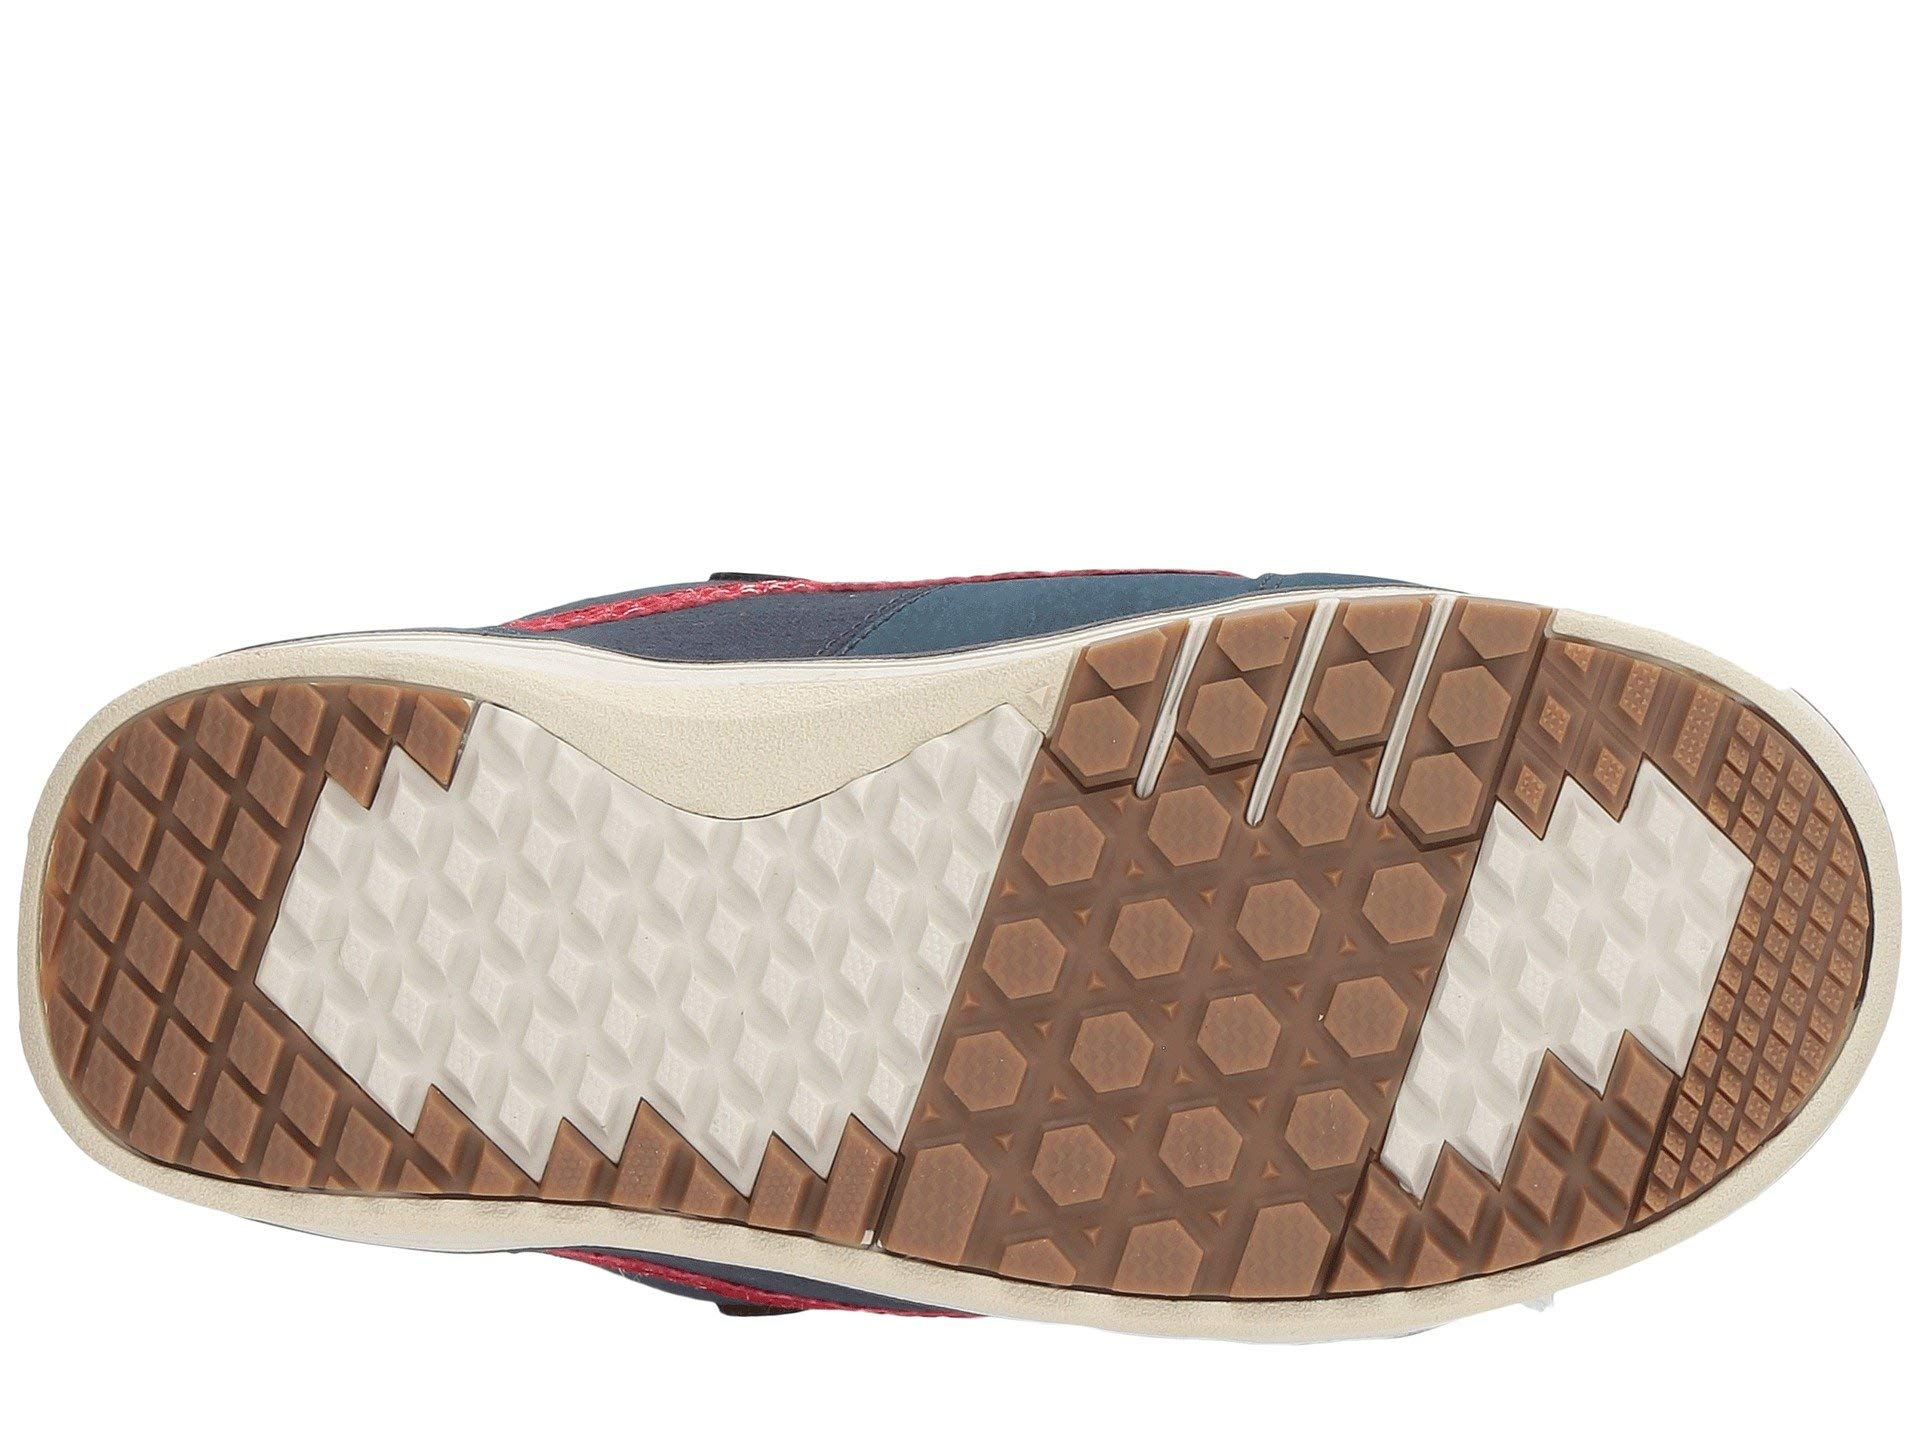line: (928, 749, 1342, 1258)
polygon: (928, 749, 1342, 1258), (1300, 652, 1411, 750)
quad: (396, 817, 723, 1212), (1465, 731, 1748, 1162), (82, 767, 367, 1110)
star: (928, 749, 1342, 1258)
triangle: (928, 749, 1342, 1258)
